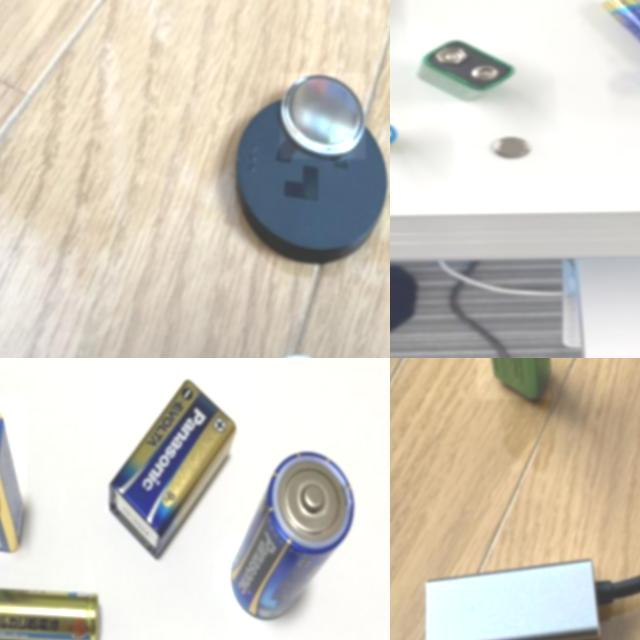9V: (107, 379, 238, 560), (417, 40, 515, 102), (0, 398, 26, 554), (477, 358, 551, 399)
